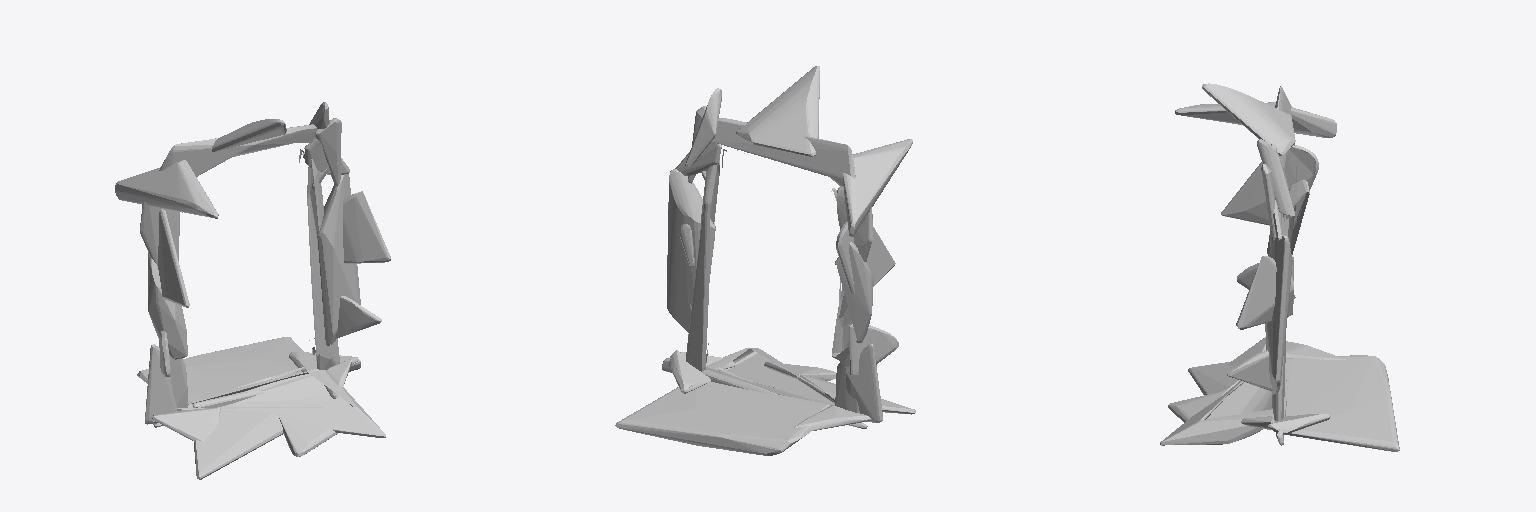
File: _001_porte_01_chambranle.obj
3 views of the same model, side by side, from view 1: azimuth 30°, elevation 25°; view 2: azimuth 150°, elevation 25°; view 3: azimuth 270°, elevation 25° (orthographic).
Parts seen in each view (by area): view 1: chambranle; view 2: chambranle; view 3: chambranle.
Part boxes in pixels (x1,y1,x2,y2): chambranle: (115, 102, 390, 479); chambranle: (615, 66, 915, 455); chambranle: (1160, 83, 1399, 451).
Size of the model in its own units: 34.02 by 47.39 by 31.